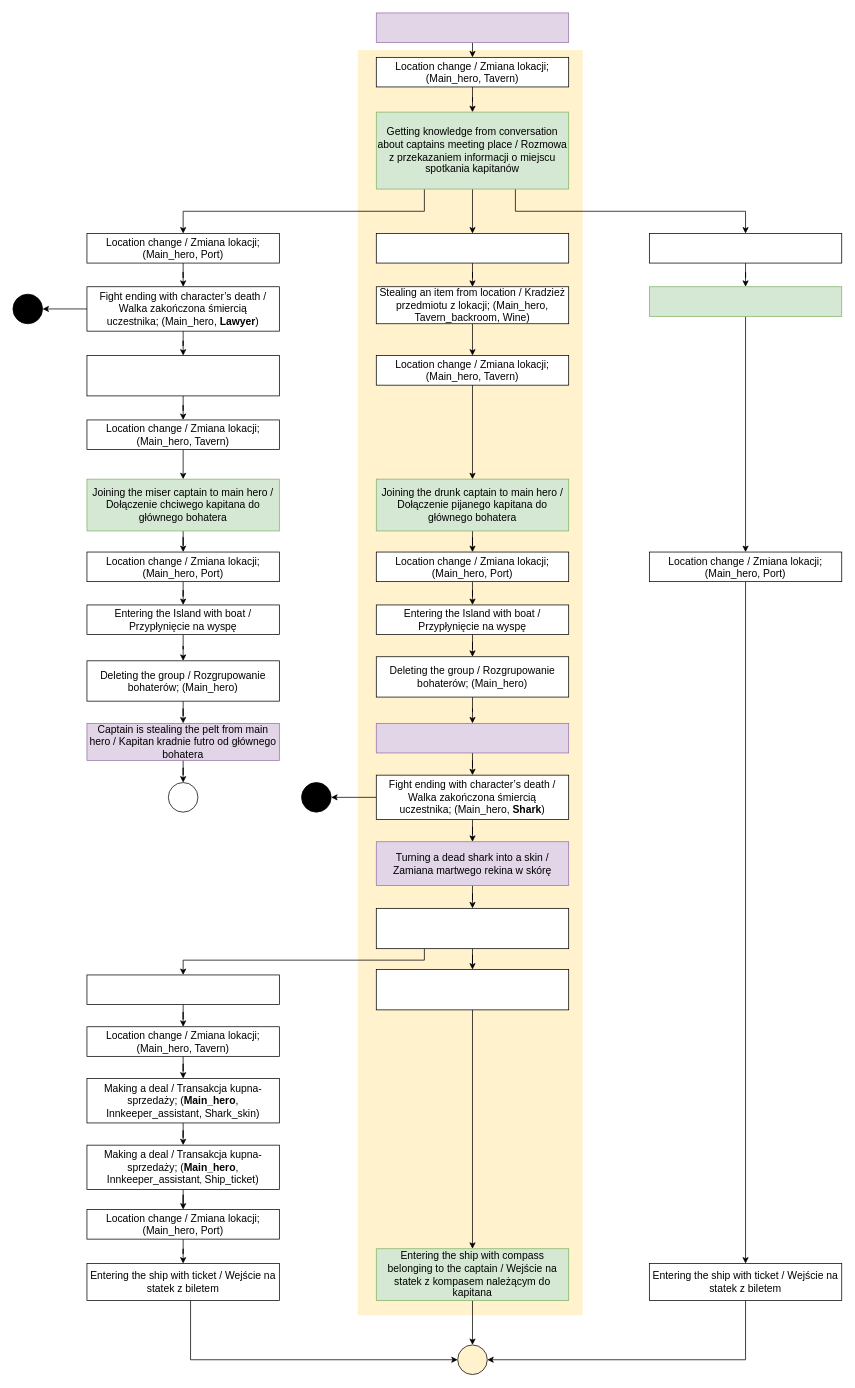
Image size: 855x1388. Some labels were removed from this diagram. The centre of each missing label's shape, as x and y in pixels:
"(Zdobycie przedmiotu Wolf_pelt, Q7)" goes at point 472,27.
"Drunk captain’s death / Śmierć pijanego kapitana" goes at point 472,738.
"Exchanging Wolf pelt for an ship ticket / Wymiana skóry wilka na bilet" goes at point 745,301.
"Leaving the Island with boat / Odpłynięcie z wyspy" goes at point 182,989.
"Location change / Zmiana lokacji; (Main_hero, Market)" goes at point 745,248.
"Location change / Zmiana lokacji; (Main_hero, Tavern_backroom)" goes at point 472,248.
"Picking item up / Podniesienie przedmiotu; (Main_hero, Bag, Port)" goes at point 182,375.
"Picking item up / Podniesienie przedmiotu; (Main_hero, Compass, Island)" goes at point 472,989.
"Picking item up / Podniesienie przedmiotu; (Main_hero, Shark_skin, Island)" goes at point 472,928.
